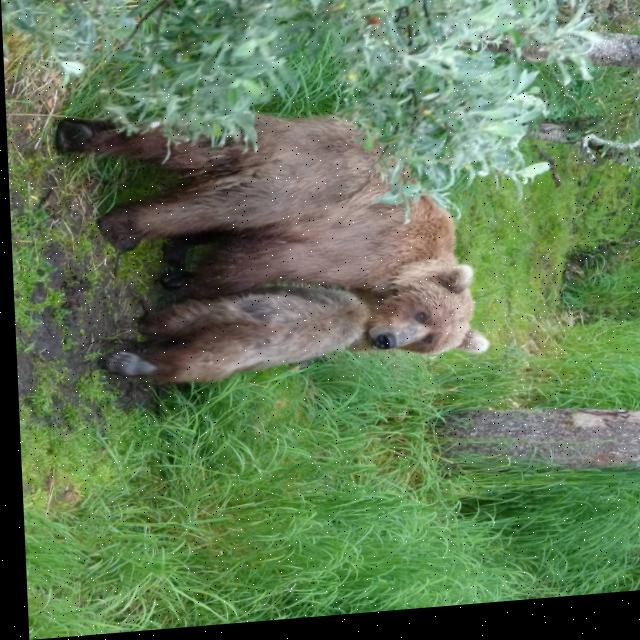bear face: (54, 97, 488, 390), (98, 290, 371, 391)
